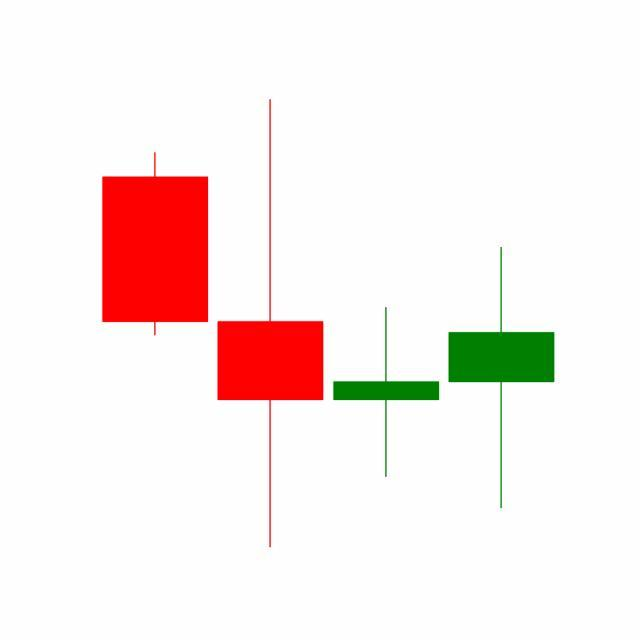Spinning Top: (329, 306, 445, 479)
